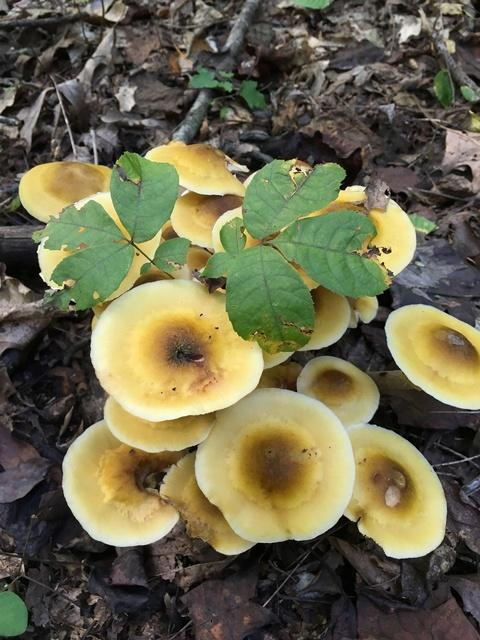edible_mushroom: (18, 140, 478, 560)
